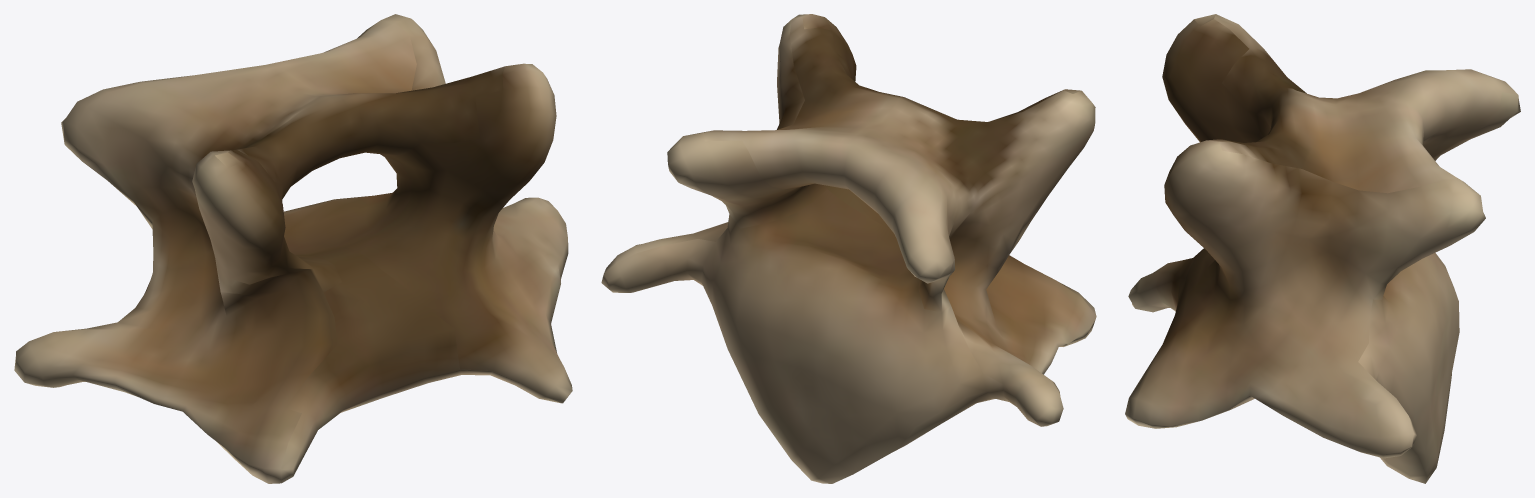
Rendered from Cervical_Vertebrae6.glb.
3 views of the same model, side by side, from view 1: azimuth 30°, elevation 25°; view 2: azimuth 150°, elevation 25°; view 3: azimuth 270°, elevation 25° (orthographic). The views are drawn at different scales.
Parts seen in each view (by area): view 1: Horse_low:SelSet_41Merged_L_Frt_Sesamoid_Bones_1; view 2: Horse_low:SelSet_41Merged_L_Frt_Sesamoid_Bones_1; view 3: Horse_low:SelSet_41Merged_L_Frt_Sesamoid_Bones_1.
Part boxes in pixels (x1,y1,x2,y2): Horse_low:SelSet_41Merged_L_Frt_Sesamoid_Bones_1: (14, 14, 572, 483); Horse_low:SelSet_41Merged_L_Frt_Sesamoid_Bones_1: (601, 14, 1096, 483); Horse_low:SelSet_41Merged_L_Frt_Sesamoid_Bones_1: (1125, 14, 1520, 483).
Size of the model in its own units: 0.1382 by 0.1059 by 0.0953.
1 material, 1 textured.
